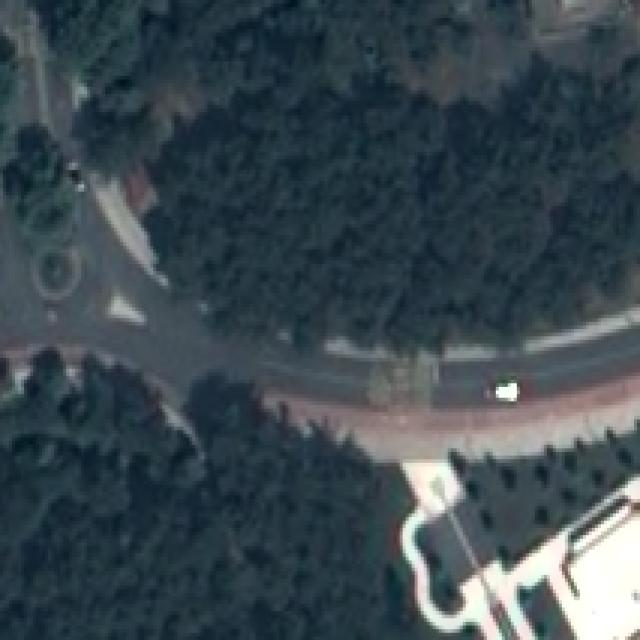trees: (32, 1, 500, 346), (151, 62, 640, 354), (1, 366, 419, 640), (1, 39, 22, 153)
